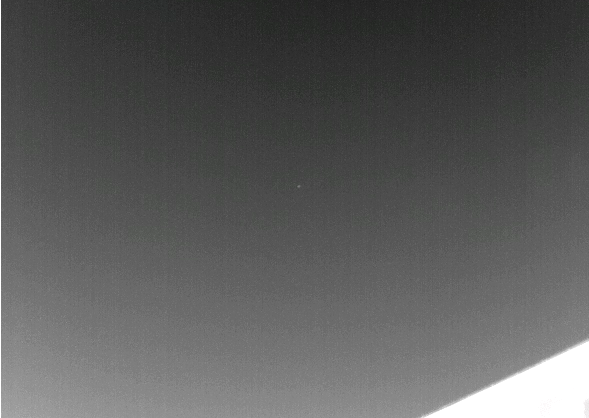dim target: (296, 183, 301, 188)
